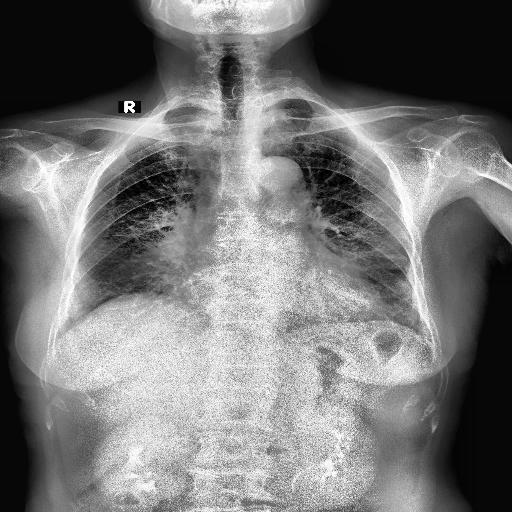0- Aortic enlargement: (250, 155, 313, 214), (239, 152, 307, 206), (253, 155, 305, 186)
3- Cardiomegaly: (183, 265, 387, 333), (182, 268, 388, 322), (191, 270, 379, 320)
6- Infiltration: (74, 206, 196, 304)
7- Lung Opacity: (183, 108, 225, 190), (144, 226, 192, 290)
